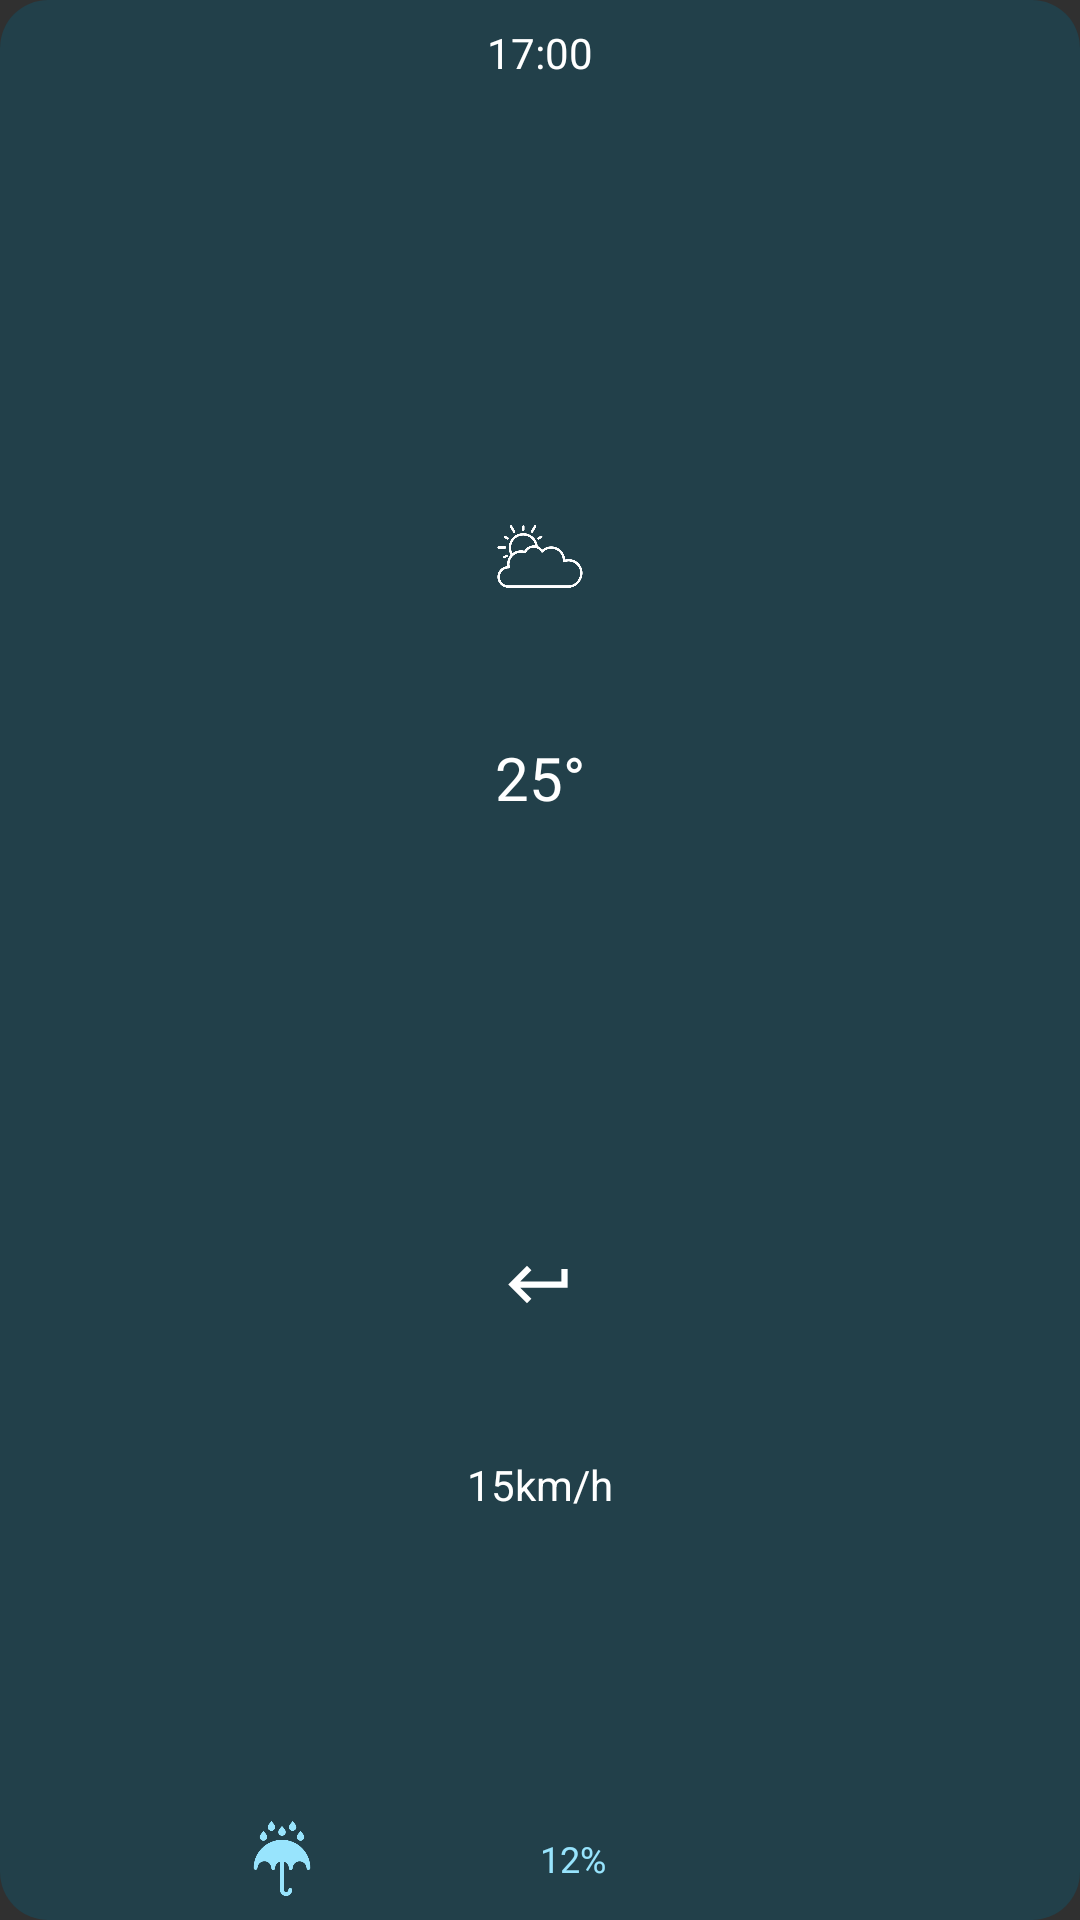

Where to tap for icons on this 1080px×1920px app screen, as point (x, y):
clouds sun: point (540, 556)
keyboard return: point (538, 1284)
umbrella rain: point (282, 1858)
